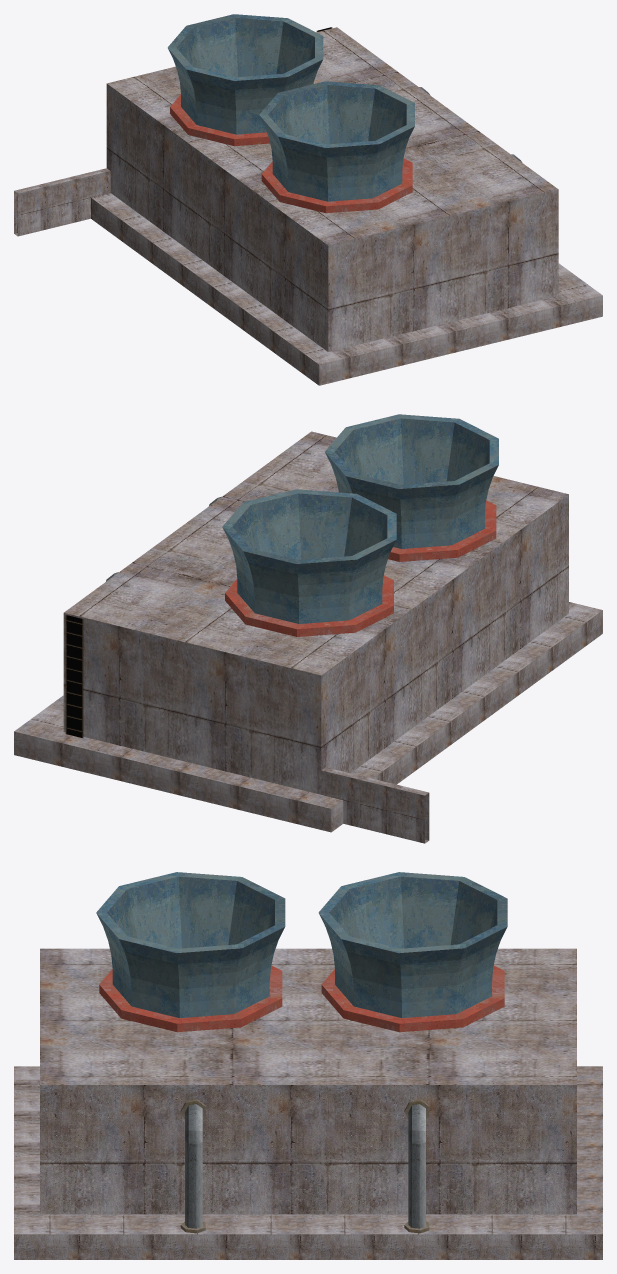
The model's file is vegasplant04.obj.
3 renders of one model, top to bottom at view 1: azimuth 30°, elevation 25°; view 2: azimuth 150°, elevation 25°; view 3: azimuth 270°, elevation 25°, orthographic. The views are drawn at different scales.
Parts seen in each view (by area): view 1: vegasplant04; view 2: vegasplant04; view 3: vegasplant04.
Boxes of the visible parts, <box> form: vegasplant04: <box>14,14,602,385</box>; vegasplant04: <box>14,414,602,843</box>; vegasplant04: <box>14,872,602,1259</box>.
Bounding box in the file's own units: 35.46 × 18.42 × 41.8.
6 materials, 6 textured.
